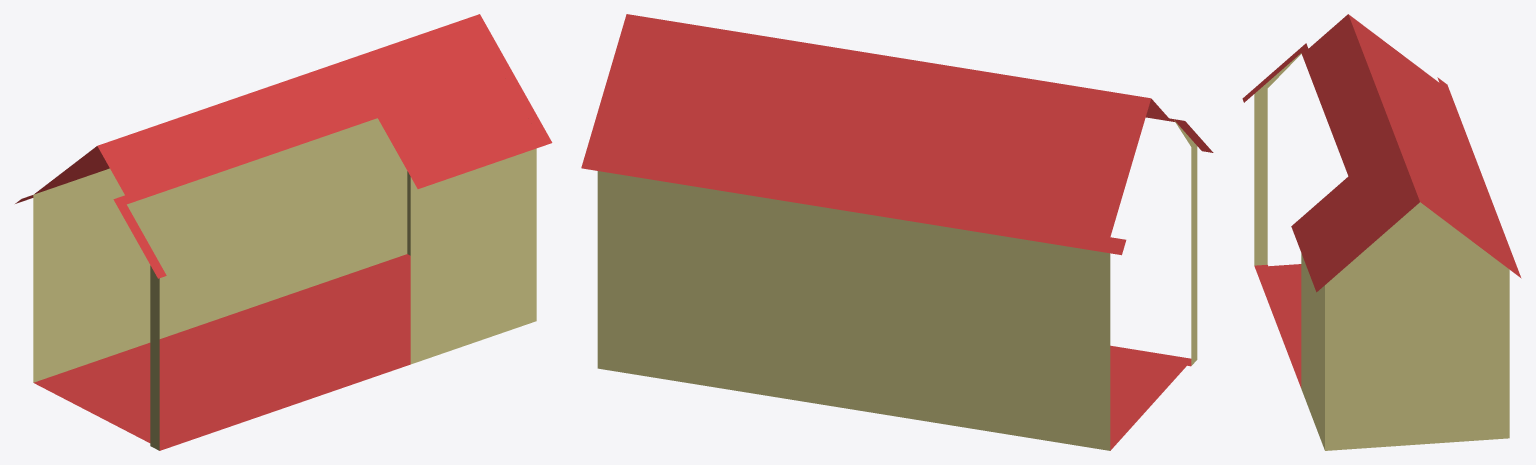
3 renders of one model, left to right at view 1: azimuth 30°, elevation 25°; view 2: azimuth 150°, elevation 25°; view 3: azimuth 270°, elevation 25°, orthographic. The views are drawn at different scales.
Size of the model in its own units: 23.95 by 13.59 by 13.26.
